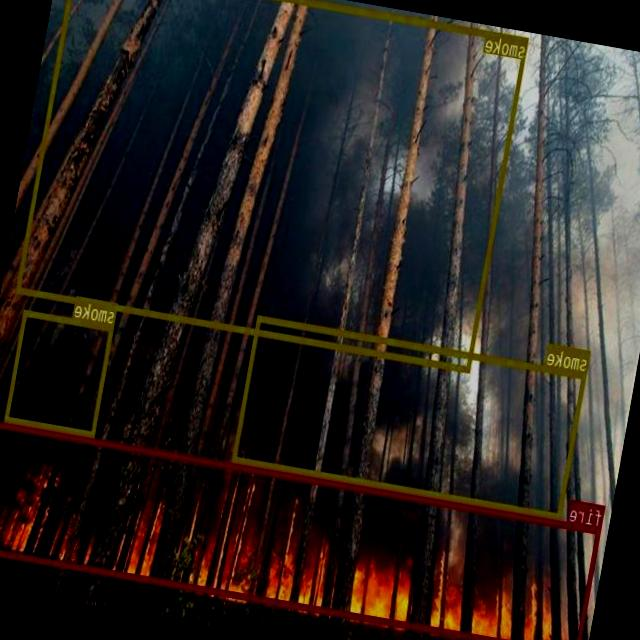fire: (0, 418, 601, 640)
smoke: (16, 0, 529, 371), (232, 314, 588, 518), (5, 308, 114, 436)
